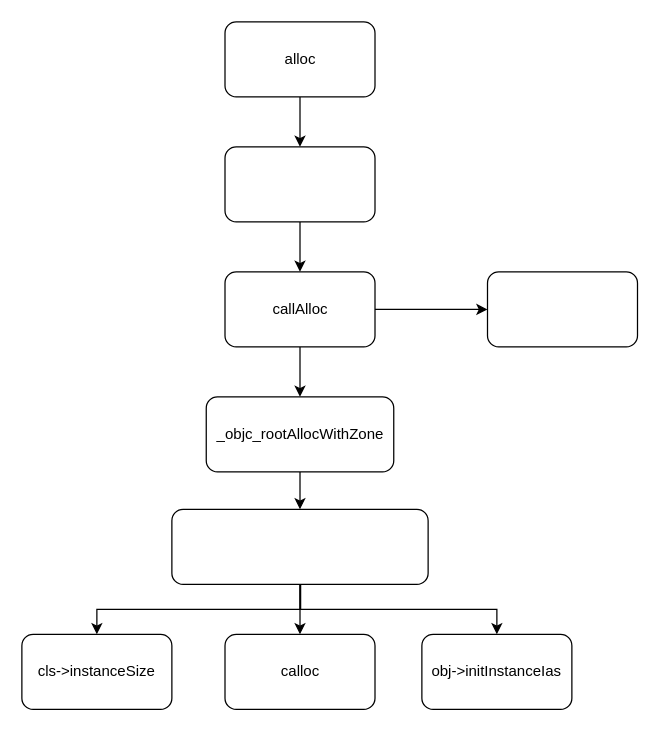
Image size: 660x731. Some labels were removed from this diagram. The shapes that lost their labels are listed below. From the top down, each one's centre as x and y in pixels, then its label:
At point (299, 184): "objc_alloc".
At point (562, 309): "objc_msgSend".
At point (299, 546): "_class_creatInstanceFromZone".
